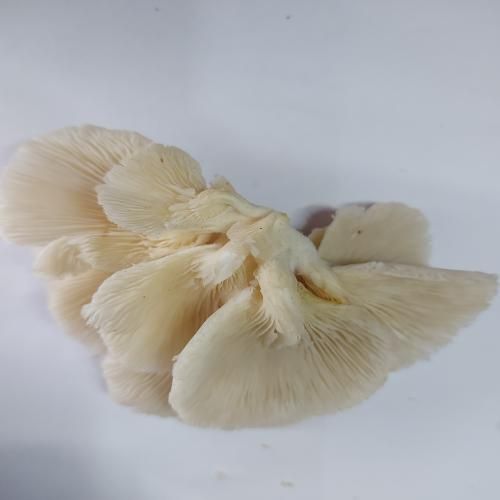Oyster Mushroom: (1, 123, 499, 430)
